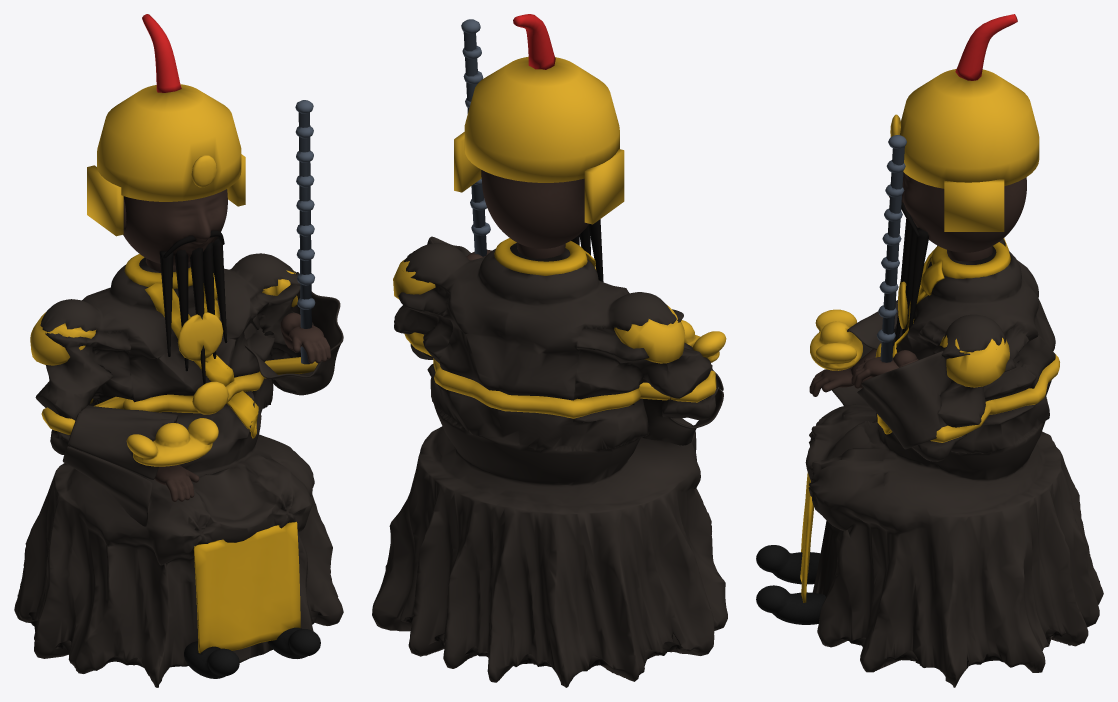
The model's file is zhaogongming.glb.
3 renders of one model, left to right at view 1: azimuth 30°, elevation 25°; view 2: azimuth 150°, elevation 25°; view 3: azimuth 270°, elevation 25°, orthographic. The views are drawn at different scales.
Visible parts, largest first — view 1: ZG_Robe, ZG_Helmet, ZG_Apron, ZG_Armor, ZG_SleeveL, ZG_HeadMesh, ZG_Beard, ZG_Whip, ZG_SleeveR, ZG_Ingot, ZG_Boots, ZG_Lapel (+4 smaller); view 2: ZG_Robe, ZG_Helmet, ZG_Armor, ZG_HeadMesh, ZG_Whip, ZG_SleeveL, ZG_Collar, ZG_Plume, ZG_Ingot, ZG_Beard; view 3: ZG_Robe, ZG_Helmet, ZG_SleeveR, ZG_Armor, ZG_HeadMesh, ZG_Boots, ZG_Whip, ZG_Ingot, ZG_Beard, ZG_Plume, ZG_Collar, ZG_SleeveL (+4 smaller).
Part boxes in pixels (x1,y1,x2,y2): ZG_Robe: (14,253,343,687); ZG_Helmet: (87,84,245,236); ZG_Apron: (193,521,300,653); ZG_Armor: (30,270,317,434); ZG_SleeveL: (62,405,178,526); ZG_HeadMesh: (123,189,227,265); ZG_Beard: (159,230,227,384); ZG_Whip: (295,100,315,364); ZG_SleeveR: (244,283,343,395); ZG_Ingot: (126,418,218,466); ZG_Boots: (184,627,320,678); ZG_Lapel: (145,273,258,438); ZG_Robe: (372,243,727,687); ZG_Helmet: (454,56,624,224); ZG_Armor: (393,259,716,418); ZG_HeadMesh: (482,170,589,248); ZG_Whip: (461,19,490,256); ZG_SleeveL: (642,343,723,445); ZG_Collar: (494,238,587,275); ZG_Plume: (513,14,555,69); ZG_Ingot: (681,320,726,362); ZG_Beard: (571,219,603,282); ZG_Robe: (805,238,1103,687); ZG_Helmet: (890,69,1039,231); ZG_SleeveR: (857,351,951,449); ZG_Armor: (875,238,1059,442); ZG_HeadMesh: (889,172,1026,252); ZG_Boots: (756,545,825,624); ZG_Whip: (876,135,906,362); ZG_Ingot: (810,309,862,370); ZG_Beard: (895,202,928,341); ZG_Plume: (955,14,1017,80); ZG_Collar: (931,242,1010,278); ZG_SleeveL: (832,300,897,405).
Bounding box in the file's own units: 1.18 × 2.23 × 1.16.
